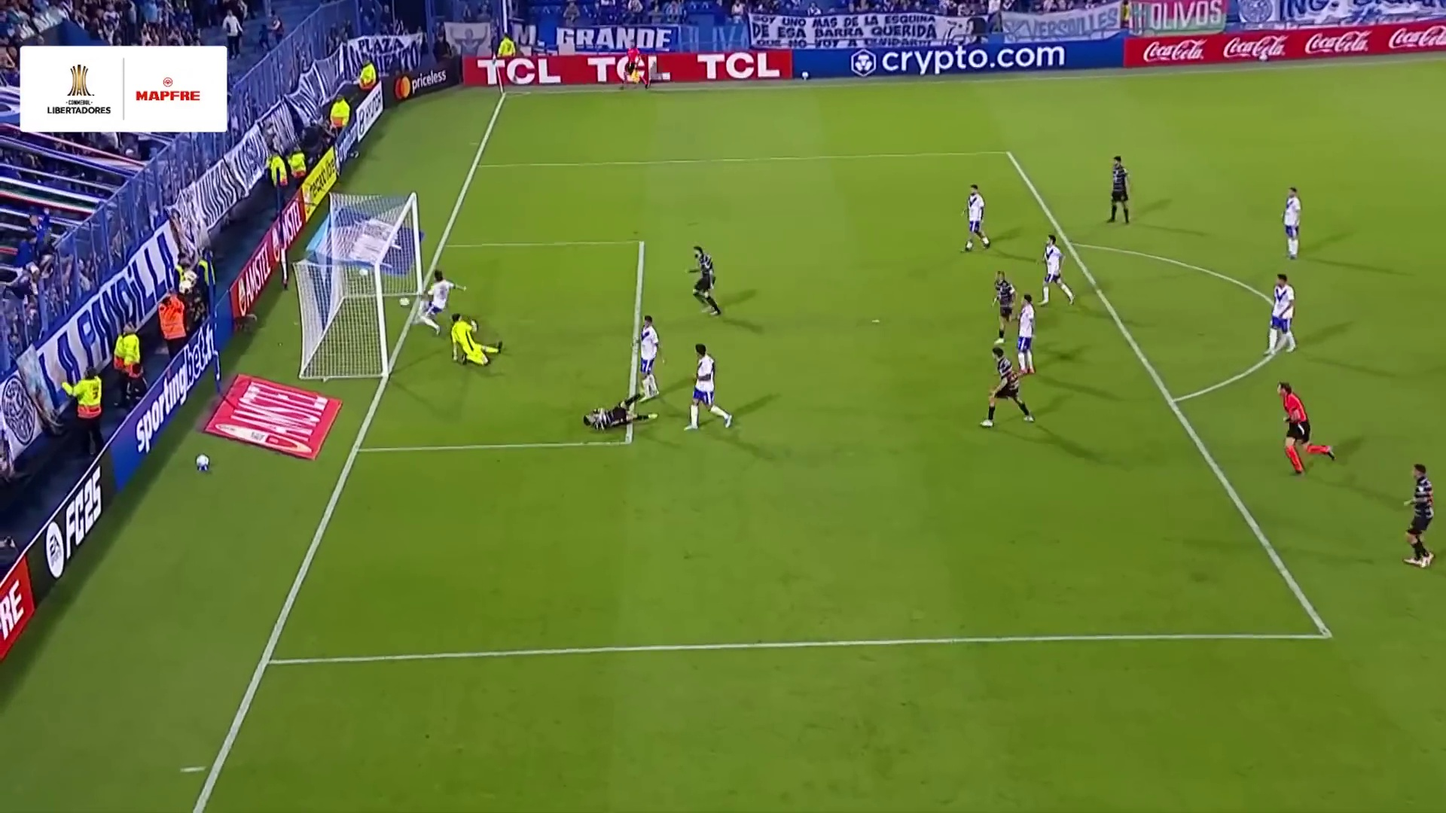ball: (398, 296, 411, 308)
player: (1397, 461, 1442, 570), (682, 342, 734, 434), (978, 346, 1034, 430), (578, 393, 658, 443), (444, 312, 507, 371), (412, 269, 467, 336), (1261, 272, 1301, 356), (683, 244, 726, 319), (630, 314, 667, 400), (1036, 233, 1077, 308), (958, 183, 993, 256), (1102, 154, 1136, 228), (989, 270, 1021, 345), (1278, 185, 1307, 261), (1013, 293, 1040, 374)
referee: (1272, 381, 1337, 478), (1102, 154, 1136, 229), (617, 42, 651, 97)
